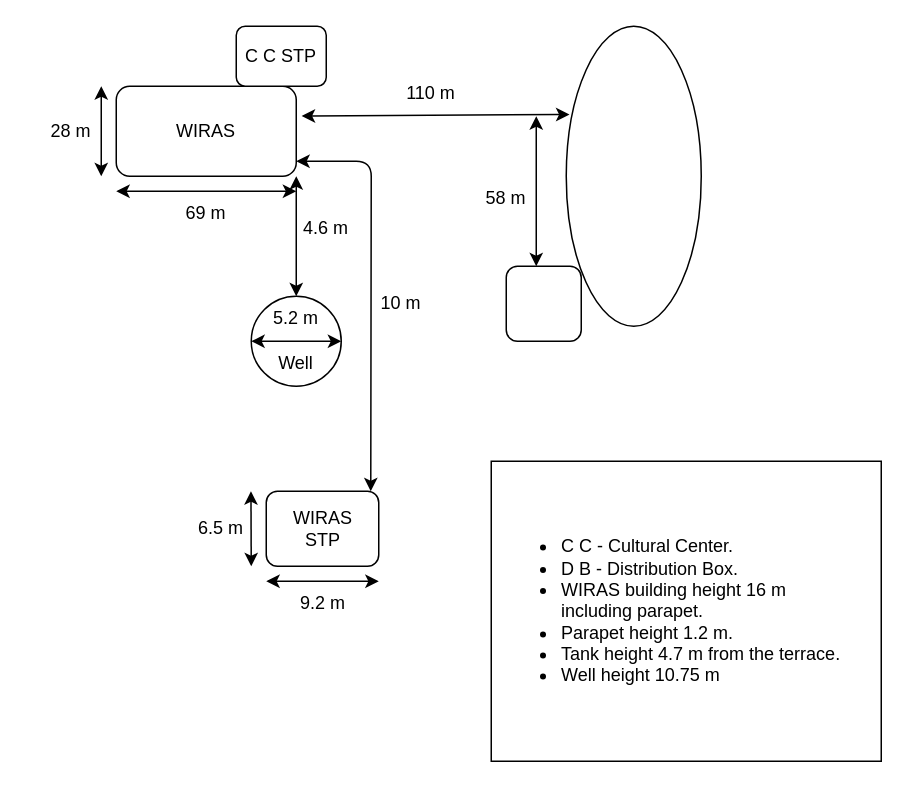
Image size: 908x788. Some labels were removed from this diagram. The shapes that lost their labels are listed below. From the top down, each one's box as (x1, y1, x2, y2) in pixels, then its label:
(565, 25, 701, 326): Dam
(505, 265, 581, 341): D B for Wiras Motor
